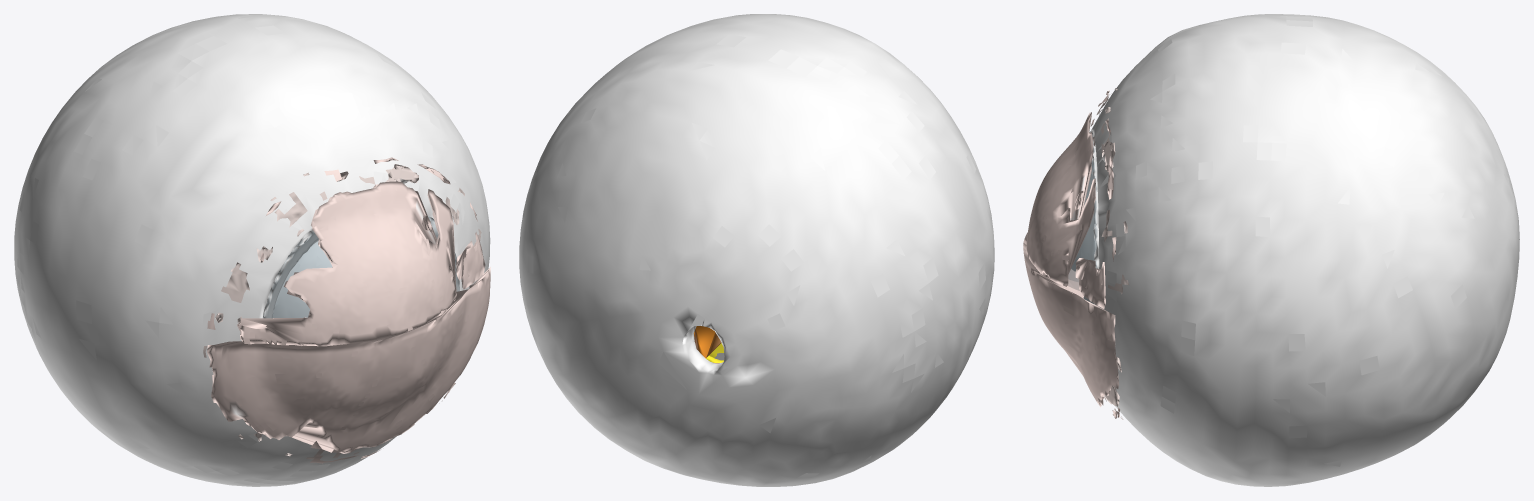
File: 3d-vh-m-eye-l-80.fbx
The picture shows the model from 3 angles, left to right: view 1: azimuth 30°, elevation 25°; view 2: azimuth 150°, elevation 25°; view 3: azimuth 270°, elevation 25°; orthographic projection.
Parts seen in each view (by area): view 1: VH_M_sclera_L, VH_M_palpebral_conjunctiva_of_lower_eyelid_L, VH_M_palpebral_conjunctiva_of_upper_eyelid_L, VH_M_bulbar_conjunctiva_L, VH_M_cornea_L, VH_M_aqueous_humor_L, VH_M_corneo_scleral_junction_L; view 2: VH_M_sclera_L, VH_M_optic_choroid_L; view 3: VH_M_sclera_L, VH_M_palpebral_conjunctiva_of_upper_eyelid_L, VH_M_palpebral_conjunctiva_of_lower_eyelid_L, VH_M_bulbar_conjunctiva_L, VH_M_cornea_L, VH_M_aqueous_humor_L, VH_M_corneo_scleral_junction_L.
Part boxes in pixels (x1,y1,x2,y2): VH_M_sclera_L: (14, 14, 490, 486); VH_M_palpebral_conjunctiva_of_lower_eyelid_L: (207, 267, 490, 463); VH_M_palpebral_conjunctiva_of_upper_eyelid_L: (207, 157, 485, 346); VH_M_bulbar_conjunctiva_L: (203, 164, 481, 459); VH_M_cornea_L: (263, 216, 459, 317); VH_M_aqueous_humor_L: (272, 241, 332, 317); VH_M_corneo_scleral_junction_L: (263, 216, 459, 318); VH_M_sclera_L: (519, 14, 994, 486); VH_M_optic_choroid_L: (694, 326, 721, 363); VH_M_sclera_L: (1091, 14, 1519, 486); VH_M_palpebral_conjunctiva_of_upper_eyelid_L: (1026, 90, 1116, 308); VH_M_palpebral_conjunctiva_of_lower_eyelid_L: (1023, 233, 1119, 418); VH_M_bulbar_conjunctiva_L: (1091, 88, 1128, 419); VH_M_cornea_L: (1068, 148, 1097, 304); VH_M_aqueous_humor_L: (1071, 169, 1095, 303); VH_M_corneo_scleral_junction_L: (1089, 130, 1099, 305).
Bounding box in the file's own units: 2.45 × 2.44 × 2.57.
